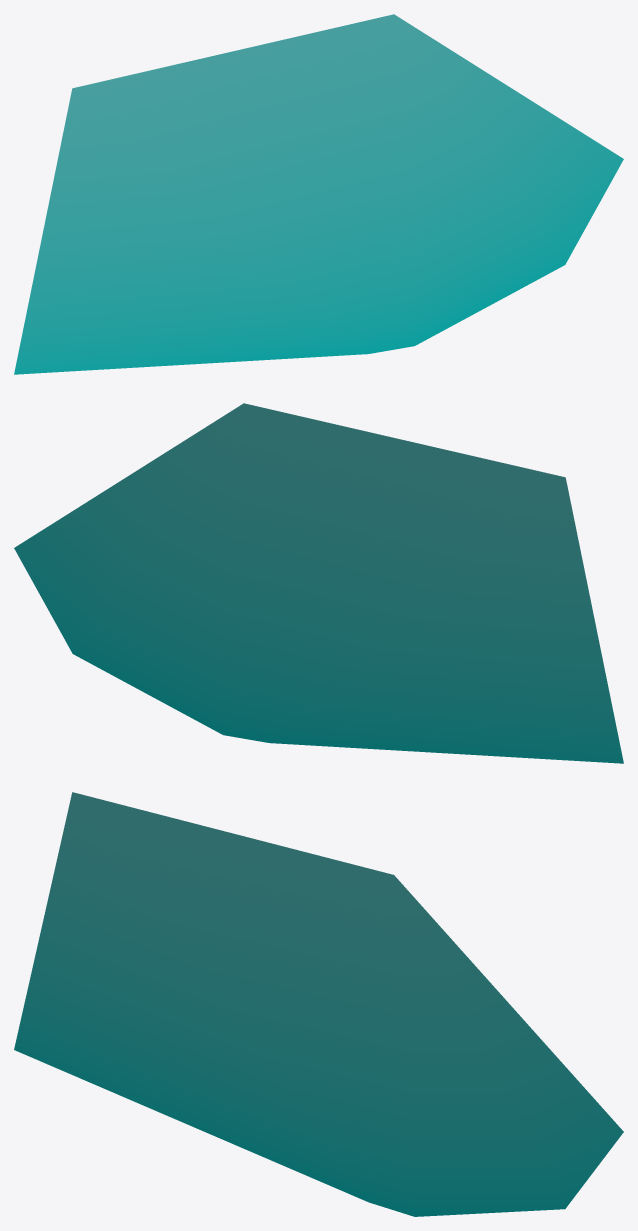
Rendered from Lady_Fern_wdvlditia_Mid_wdvlditia_VarE_LOD2.fbx.
The picture shows the model from 3 angles, top to bottom: view 1: azimuth 30°, elevation 25°; view 2: azimuth 150°, elevation 25°; view 3: azimuth 330°, elevation 25°; orthographic projection.
Visible parts, largest first — view 1: _b1i6_VarE_LOD6; view 2: _b1i6_VarE_LOD6; view 3: _b1i6_VarE_LOD6.
Part boxes in pixels (<box>): _b1i6_VarE_LOD6: <box>14,14,623,374</box>; _b1i6_VarE_LOD6: <box>14,403,623,763</box>; _b1i6_VarE_LOD6: <box>14,792,623,1216</box>.
Bounding box in the file's own units: 156 × 83.49 × 0.
